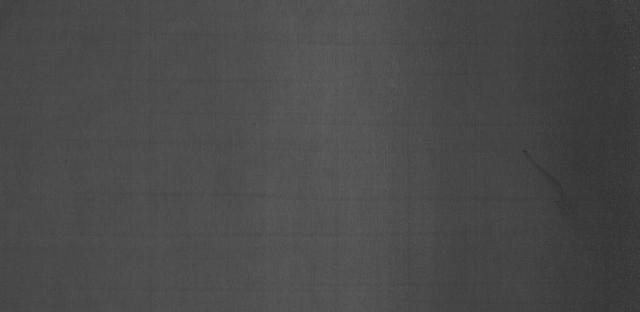water_spot: (507, 141, 593, 230)
